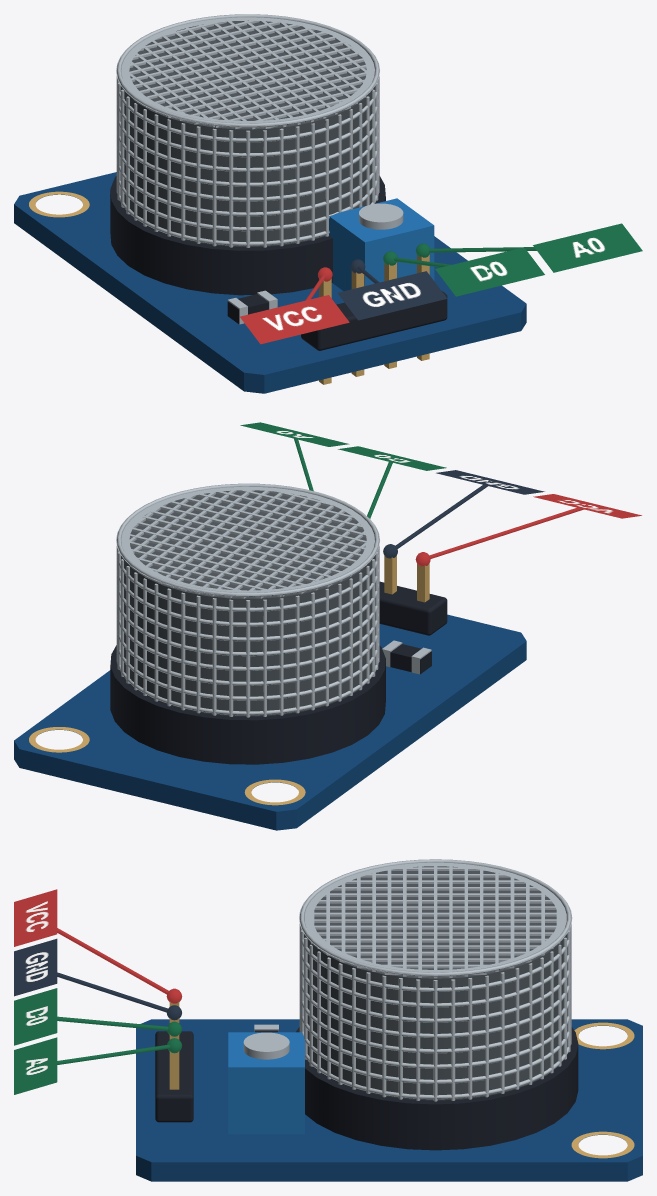
3 views of the same model, one above another, from view 1: azimuth 30°, elevation 25°; view 2: azimuth 150°, elevation 25°; view 3: azimuth 270°, elevation 25° (orthographic). The views are drawn at different scales.
Visible parts, largest first — view 1: mq2, GND, D0, A0, VCC, Terminal labels; view 2: mq2, Terminal labels, VCC, A0, GND, D0; view 3: mq2, Terminal labels, GND, D0, VCC, A0.
Part boxes in pixels (<box>): mq2: <box>14,14,526,393</box>; GND: <box>337,271,447,320</box>; D0: <box>435,247,544,296</box>; A0: <box>533,223,642,272</box>; VCC: <box>240,295,349,344</box>; Terminal labels: <box>293,243,588,319</box>; mq2: <box>14,483,526,830</box>; Terminal labels: <box>293,433,588,566</box>; VCC: <box>533,494,641,518</box>; A0: <box>240,422,349,446</box>; GND: <box>436,470,544,494</box>; D0: <box>338,446,446,470</box>; mq2: <box>136,859,642,1181</box>; Terminal labels: <box>34,916,182,1066</box>; GND: <box>14,938,57,996</box>; D0: <box>14,988,57,1045</box>; VCC: <box>14,889,57,946</box>; A0: <box>14,1037,57,1094</box>.
Size of the model in its own units: 0.0298 by 0.0155 by 0.0409.
14 materials, 4 textured.
